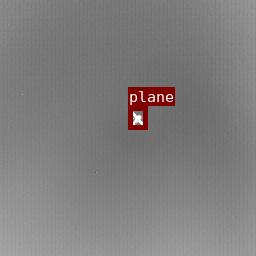plane: (128, 106, 147, 129)
